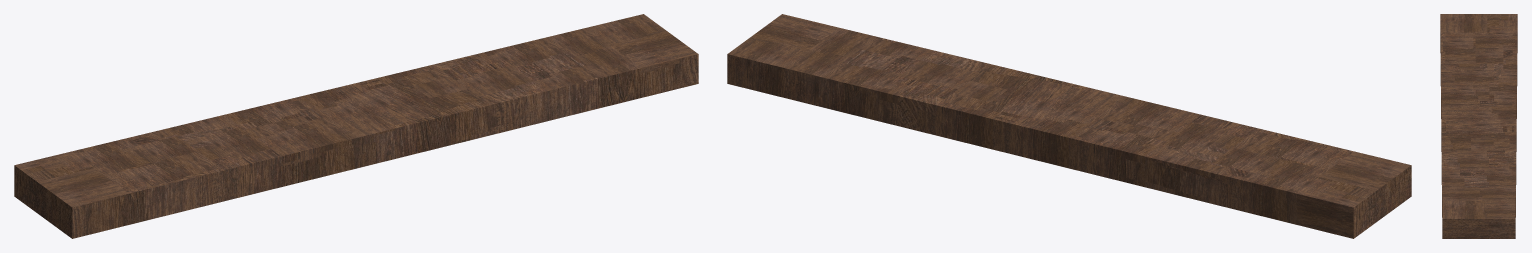
File: Madera4.fbx
3 views of the same model, side by side, from view 1: azimuth 30°, elevation 25°; view 2: azimuth 150°, elevation 25°; view 3: azimuth 270°, elevation 25° (orthographic). The views are drawn at different scales.
Visible parts, largest first — view 1: Madera.004; view 2: Madera.004; view 3: Madera.004.
Boxes of the visible parts, bbox=[...] form: Madera.004: bbox=[14, 14, 698, 238]; Madera.004: bbox=[727, 14, 1411, 238]; Madera.004: bbox=[1440, 14, 1517, 238].
Bounding box in the file's own units: 1453 × 69.41 × 232.
